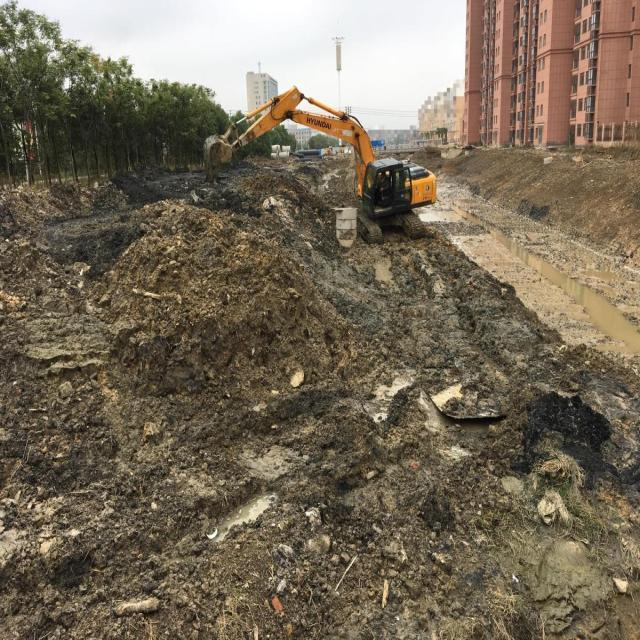excavator: (198, 77, 441, 251)
